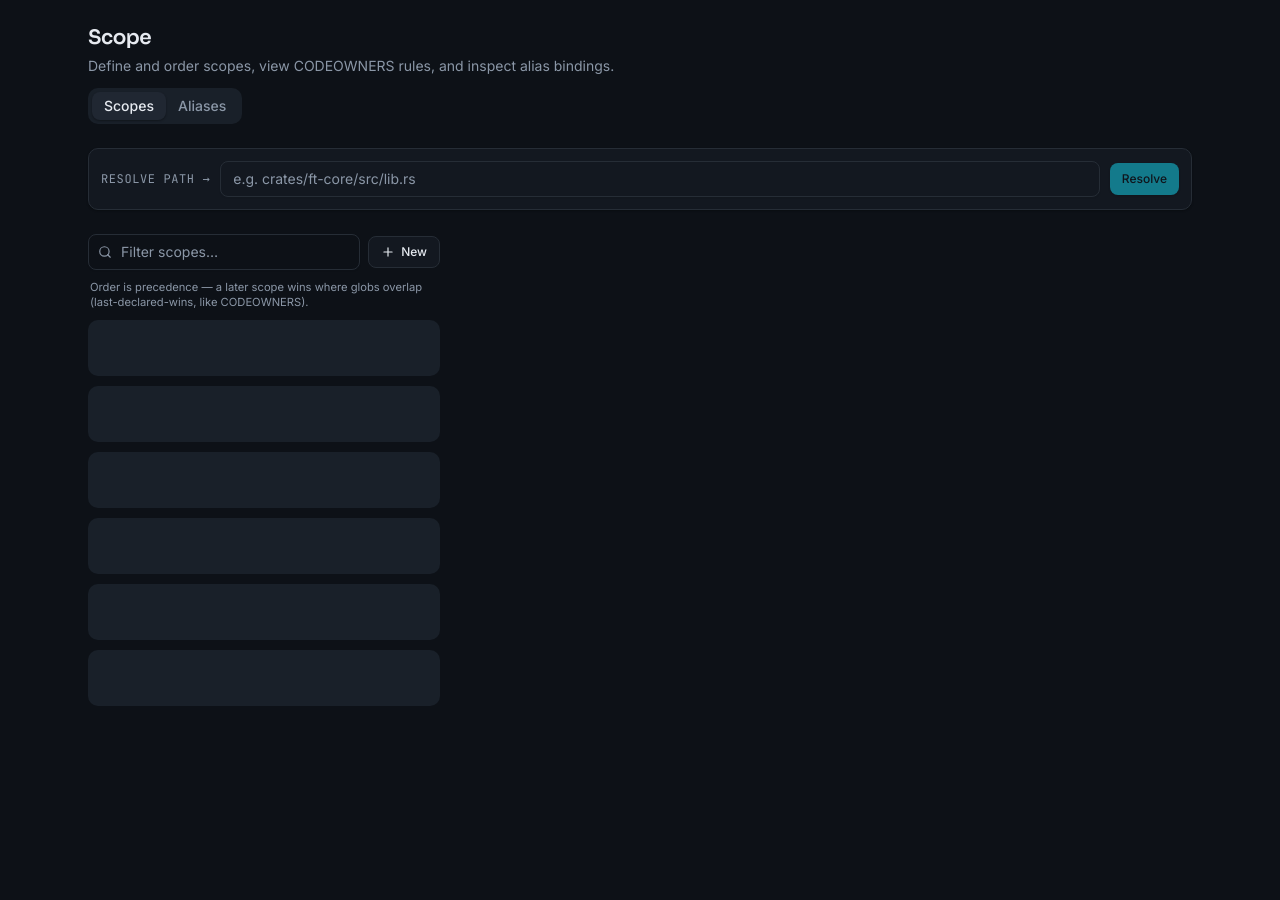
Test: <ScopeExplorer /> › resolves a path → owners
Type "crates/ft-core/src/lib.rs" into the field with placeholder "e.g. crates/ft-core/src/lib.rs".
click(660, 178); type("crates/ft-core/src/lib.rs")  # box [220,160,1100,196]
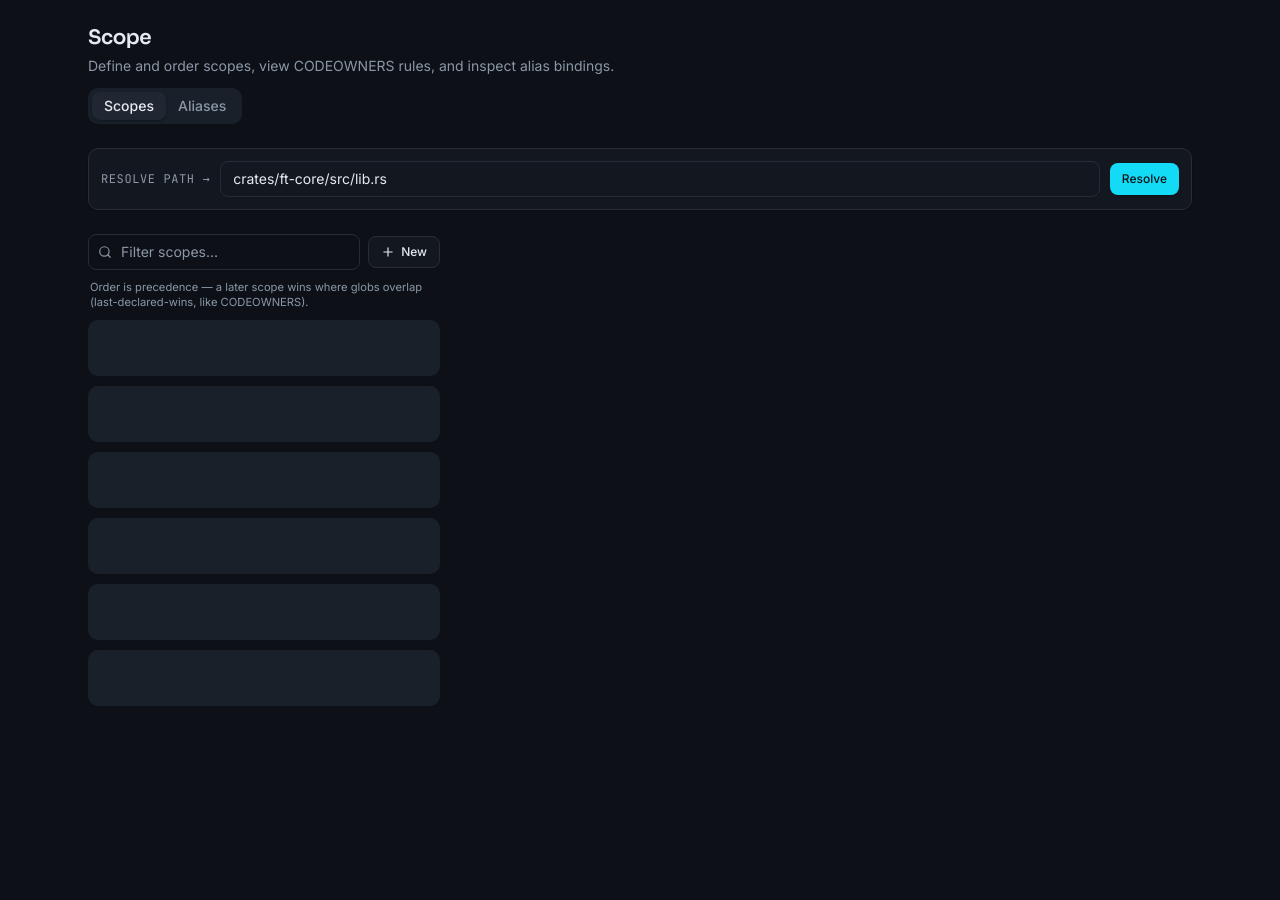
Click the button "Resolve".
click(1144, 178)  # box [1110,162,1179,194]
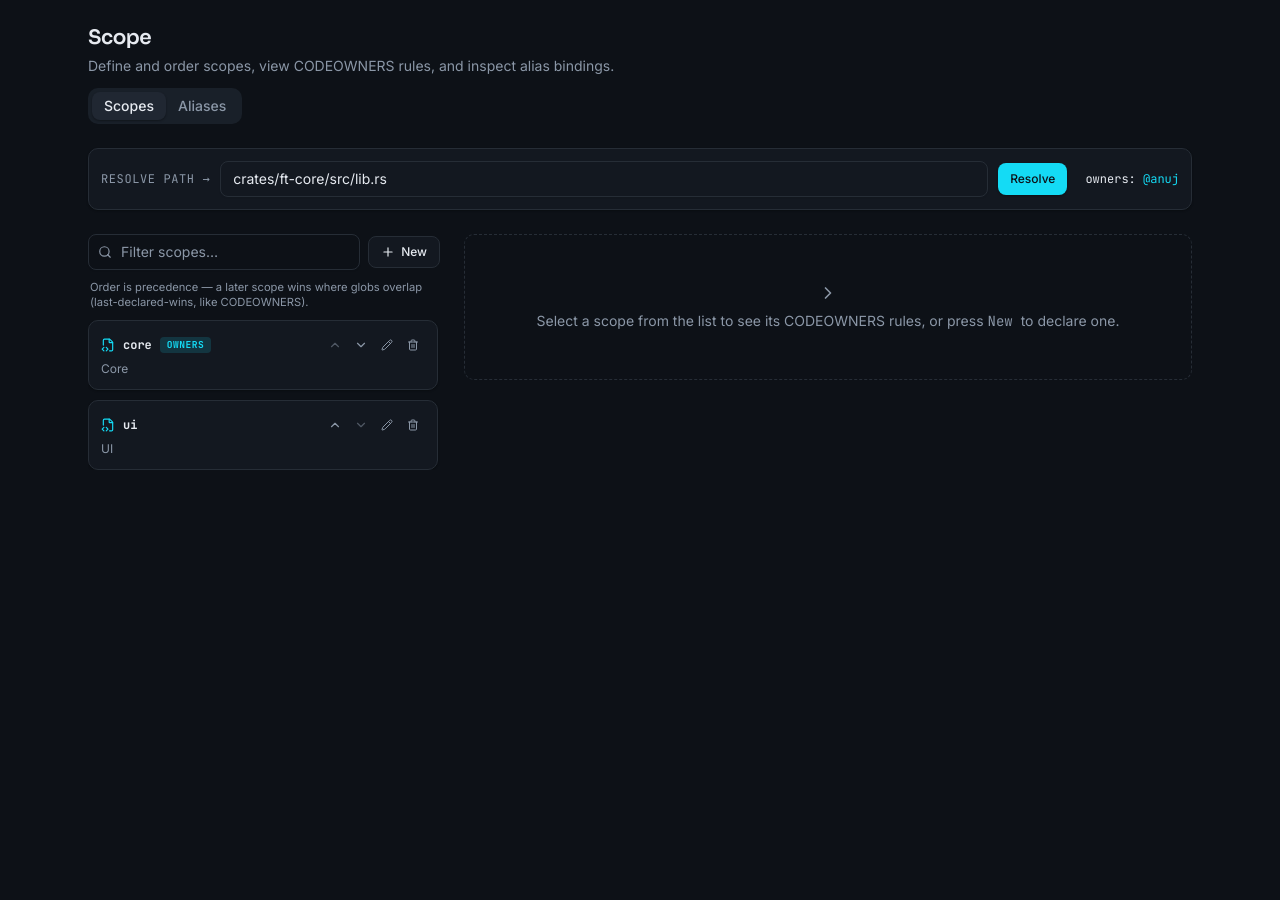
Expected: the element with test id "owners-result" shows "@anuj", [1143,170,1179,186]
